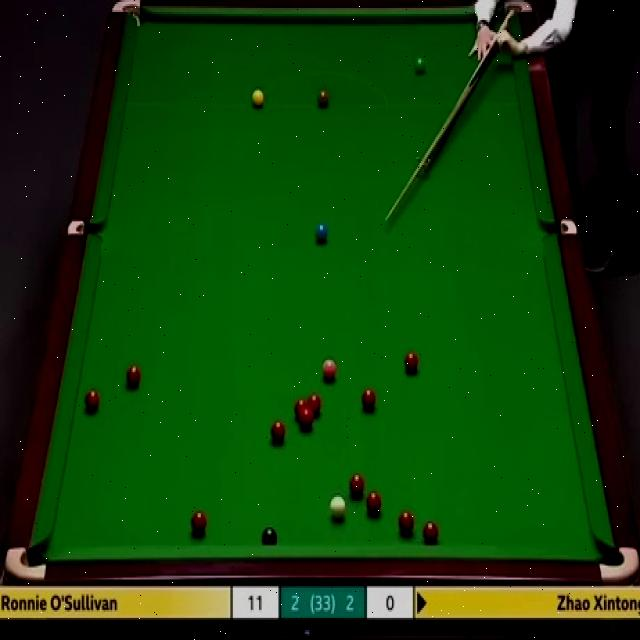black-ball: (261, 527, 278, 546)
blue-ball: (314, 221, 329, 245)
brown-ball: (316, 87, 330, 110)
green-ball: (412, 57, 427, 76)
pink-ball: (322, 355, 337, 382)
red-ball: (403, 349, 420, 378), (83, 389, 100, 417), (190, 510, 208, 536), (398, 509, 415, 535), (365, 490, 382, 516), (349, 473, 365, 499), (360, 387, 376, 413), (124, 365, 140, 388), (308, 394, 322, 419), (271, 420, 285, 444), (422, 520, 438, 540), (294, 398, 308, 419), (300, 410, 313, 430)
white-ball: (329, 491, 347, 524)
yellow-ball: (251, 88, 264, 108)
